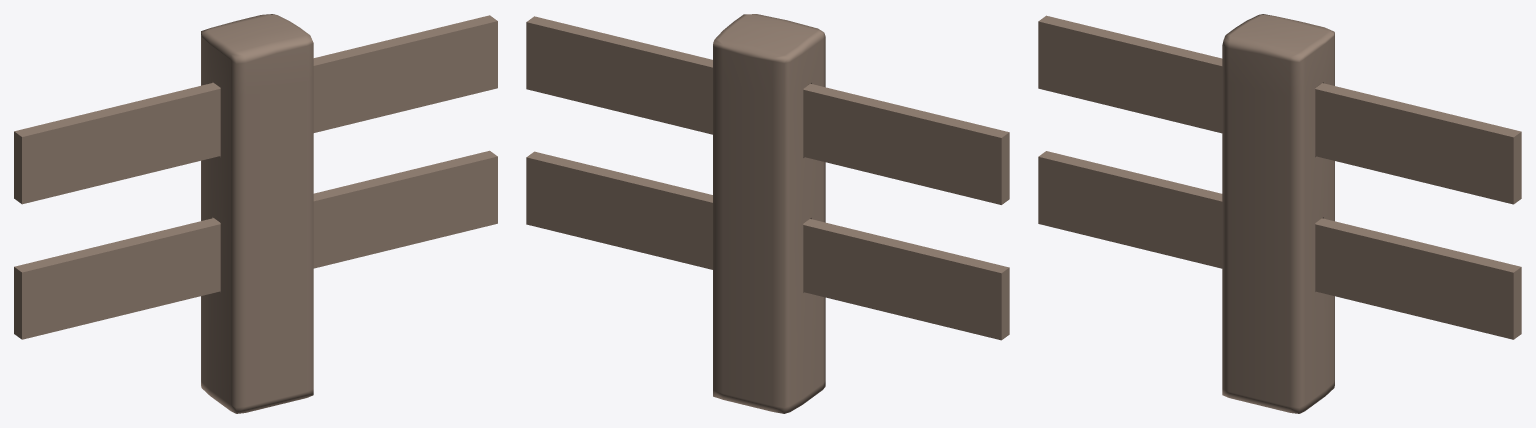
File: fencepost.fbx
3 views of the same model, side by side, from view 1: azimuth 30°, elevation 25°; view 2: azimuth 150°, elevation 25°; view 3: azimuth 330°, elevation 25° (orthographic).
Parts seen in each view (by area): view 1: pCube7, polySurface1; view 2: pCube7, polySurface1; view 3: pCube7, polySurface1.
Part boxes in pixels (x1,y1,x2,y2): pCube7: (14, 15, 497, 339); polySurface1: (201, 14, 313, 413); pCube7: (526, 16, 1009, 340); polySurface1: (713, 14, 825, 413); pCube7: (1038, 15, 1521, 339); polySurface1: (1222, 14, 1334, 413).
Bounding box in the file's own units: 18.34 × 13.22 × 2.71.
